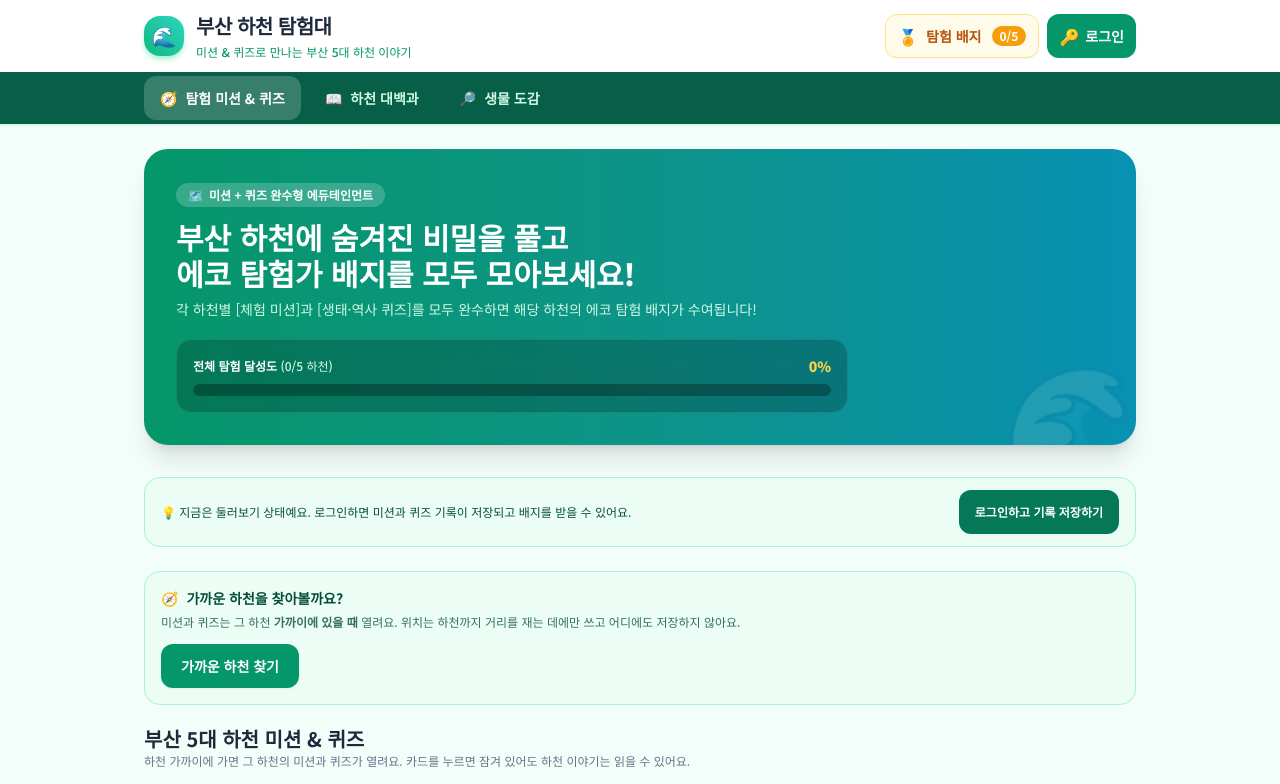
HomeScreen › 대백과 탭에서 역사/생태 패널을 보여준다
The width and height of the screenshot is (1280, 784).
Click the button "📖 하천 대백과" at (372, 98), box [309, 76, 435, 120]
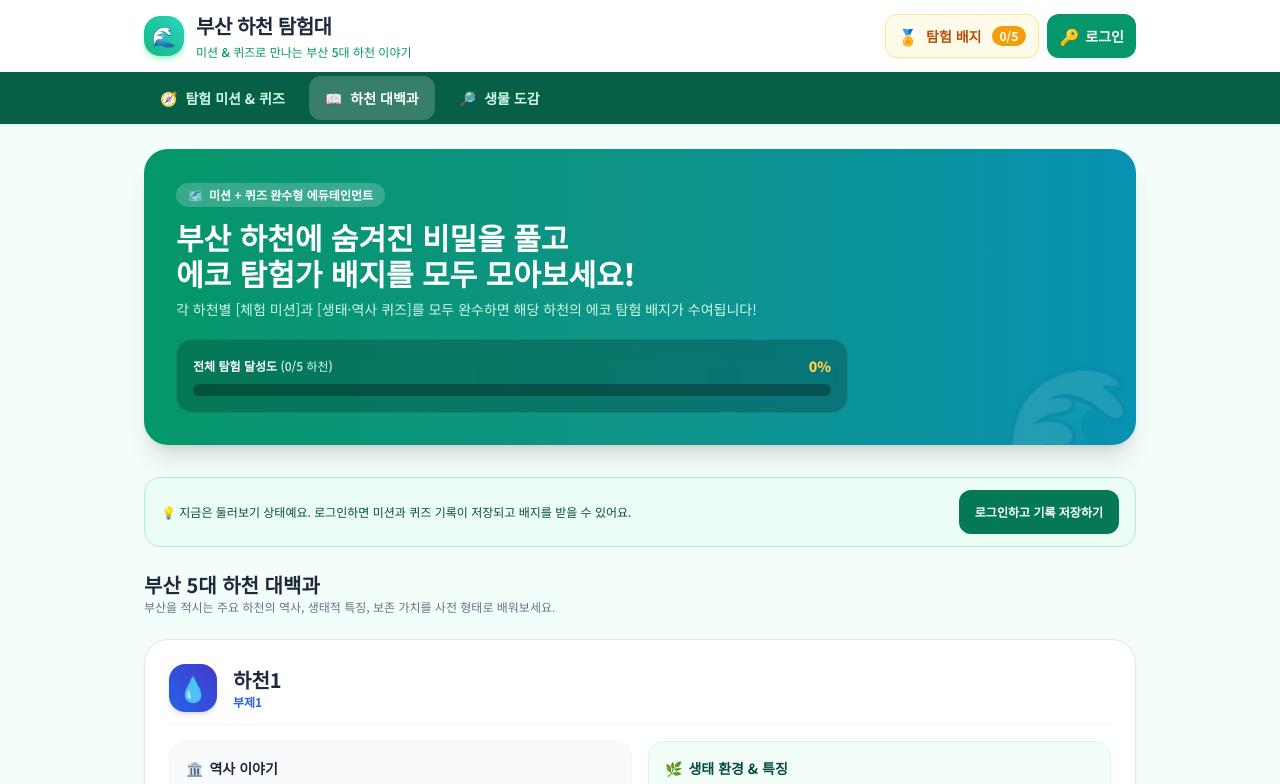
Expected: the text "역사 이야기" is shown, [210, 758, 278, 778]
Expected: the text "생태 환경 & 특징" is shown, [688, 758, 788, 778]
